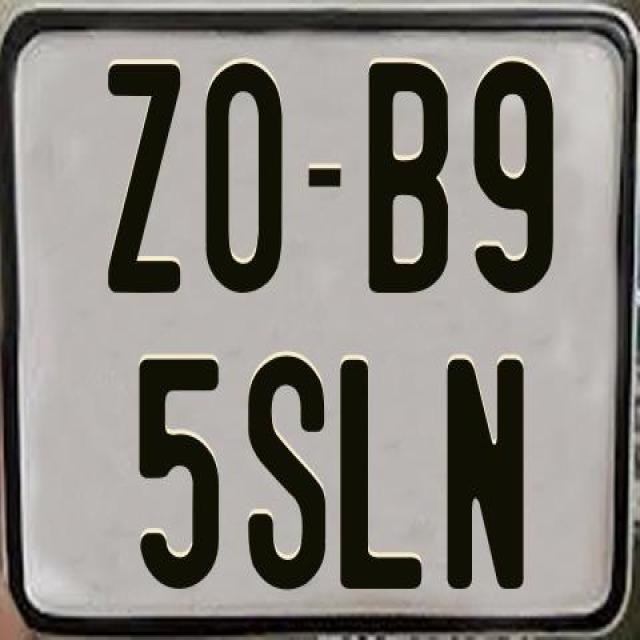0: (203, 60, 283, 295)
5: (135, 354, 223, 588)
9: (472, 59, 556, 299)
B: (368, 59, 450, 297)
L: (337, 355, 423, 584)
N: (444, 355, 524, 589)
S: (247, 354, 329, 591)
Z: (104, 59, 180, 291)
